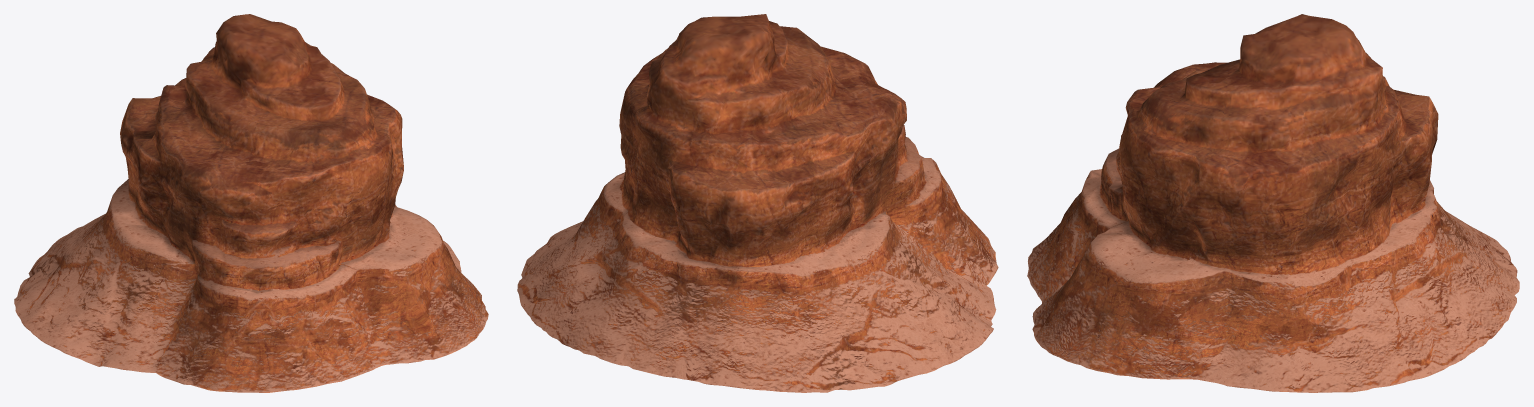
File: P6DesertCliff-Low.fbx
The picture shows the model from 3 angles, left to right: view 1: azimuth 30°, elevation 25°; view 2: azimuth 150°, elevation 25°; view 3: azimuth 270°, elevation 25°; orthographic projection. The views are drawn at different scales.
Parts seen in each view (by area): view 1: P6DesertCliff-Low; view 2: P6DesertCliff-Low; view 3: P6DesertCliff-Low.
Boxes of the visible parts, x1=… form: P6DesertCliff-Low: x1=14, y1=14, x2=488, y2=392; P6DesertCliff-Low: x1=517, y1=14, x2=998, y2=392; P6DesertCliff-Low: x1=1027, y1=14, x2=1519, y2=392.
Size of the model in its own units: 3008 by 1849 by 2945.
1 material, 1 textured.
